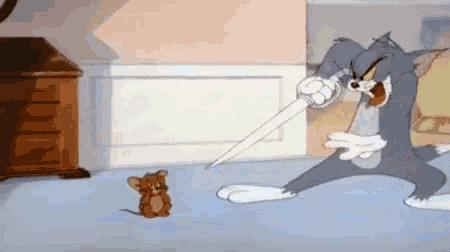jerry: (119, 168, 175, 219)
